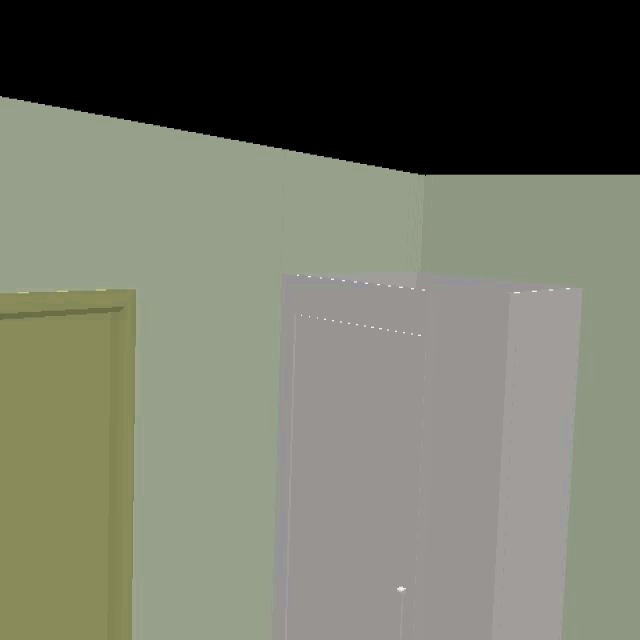shower: (273, 273, 583, 640)
